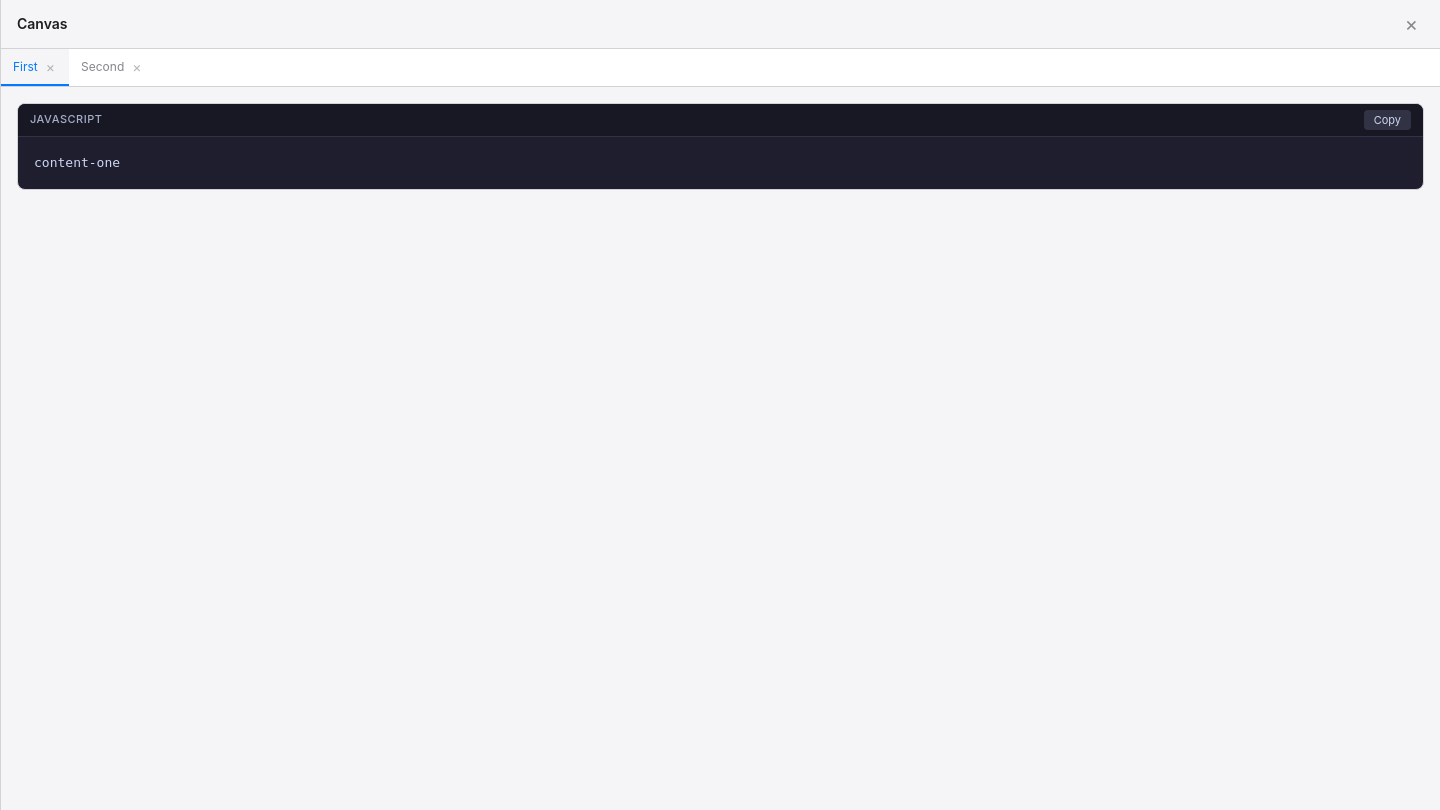
Canvas › clicking tab switches active content
The width and height of the screenshot is (1440, 810).
Expected: the text "content-one" is shown, x1=34 y1=155 x2=120 y2=170
Note: Click the second tab label
Click the text "Second": (103, 67) x1=81 y1=57 x2=124 y2=76
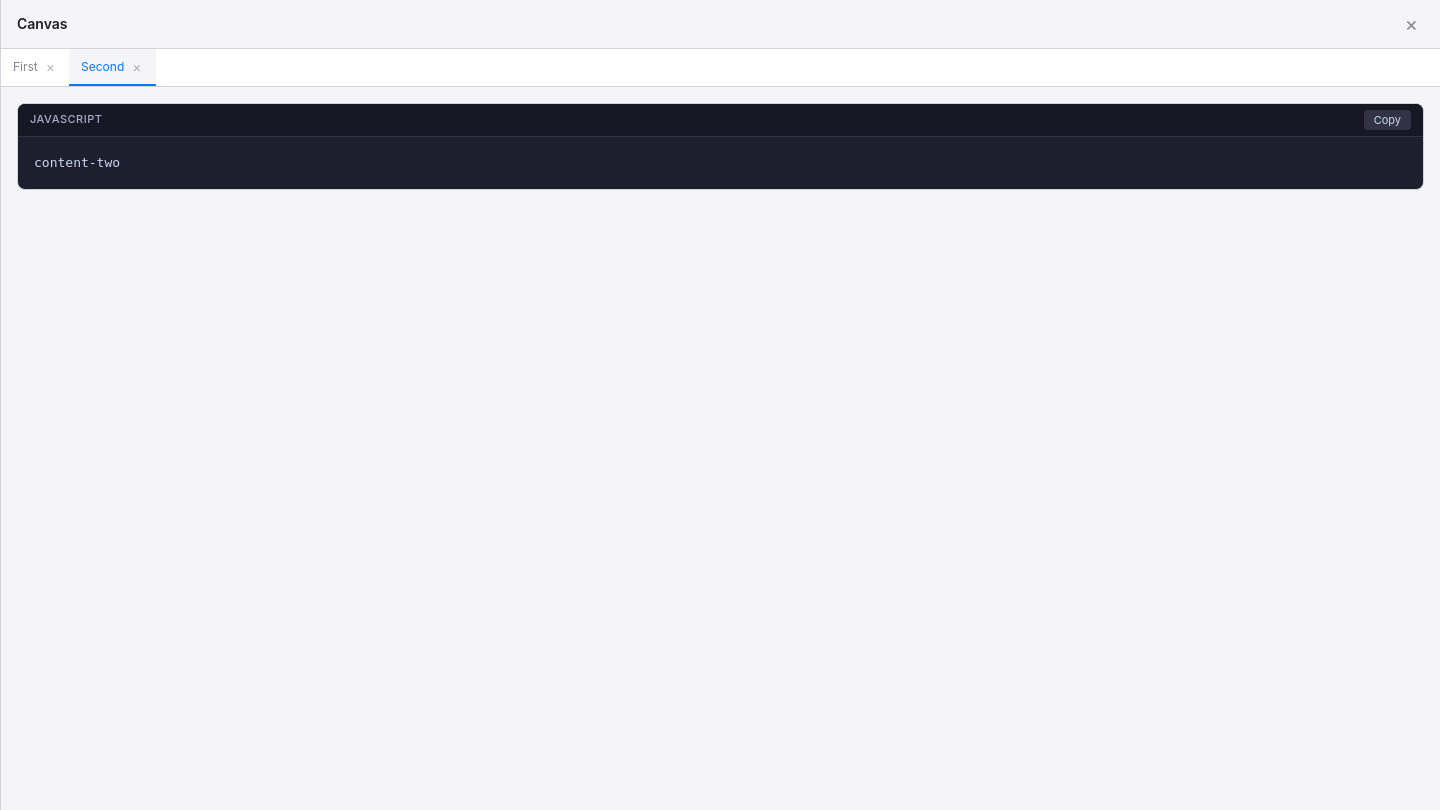
Expected: the text "content-two" is shown, x1=34 y1=155 x2=120 y2=170
